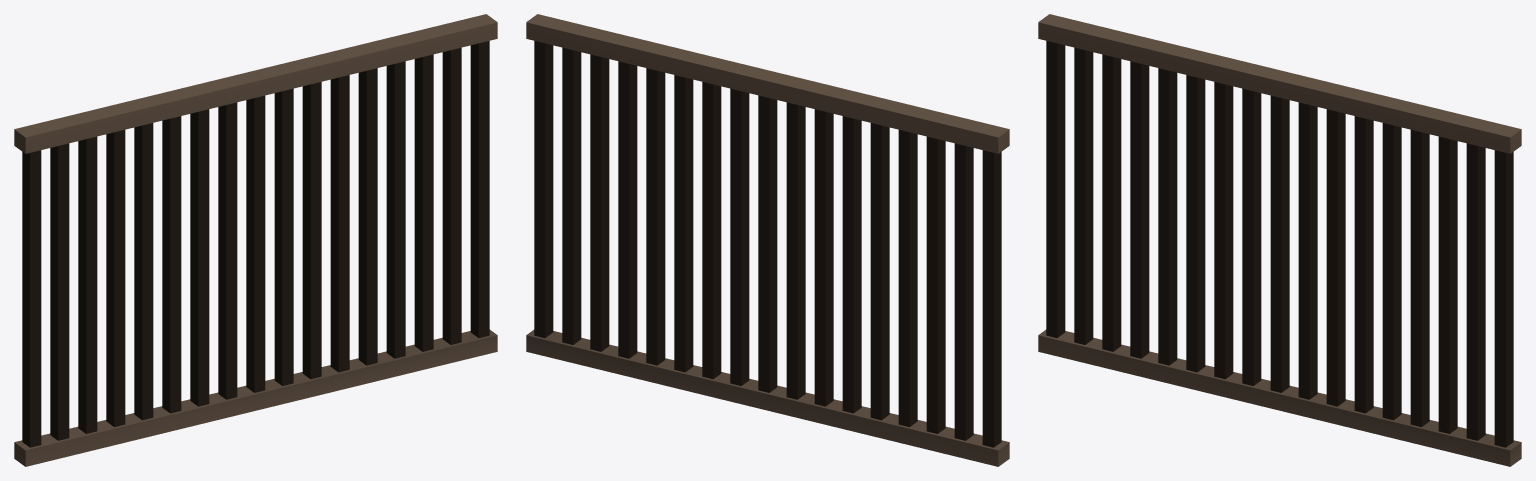
File: bld.jp_house.window_koshi.mo.glb
The picture shows the model from 3 angles, left to right: view 1: azimuth 30°, elevation 25°; view 2: azimuth 150°, elevation 25°; view 3: azimuth 330°, elevation 25°; orthographic projection.
Parts seen in each view (by area): view 1: LOD0; view 2: LOD0; view 3: LOD0.
Boxes of the visible parts, x1,y1,x2,y2 form: LOD0: (14,14,497,466); LOD0: (526,14,1009,466); LOD0: (1038,14,1521,466).
Size of what is drawn, in the model's own units: 1.2 by 0.8 by 0.05.
